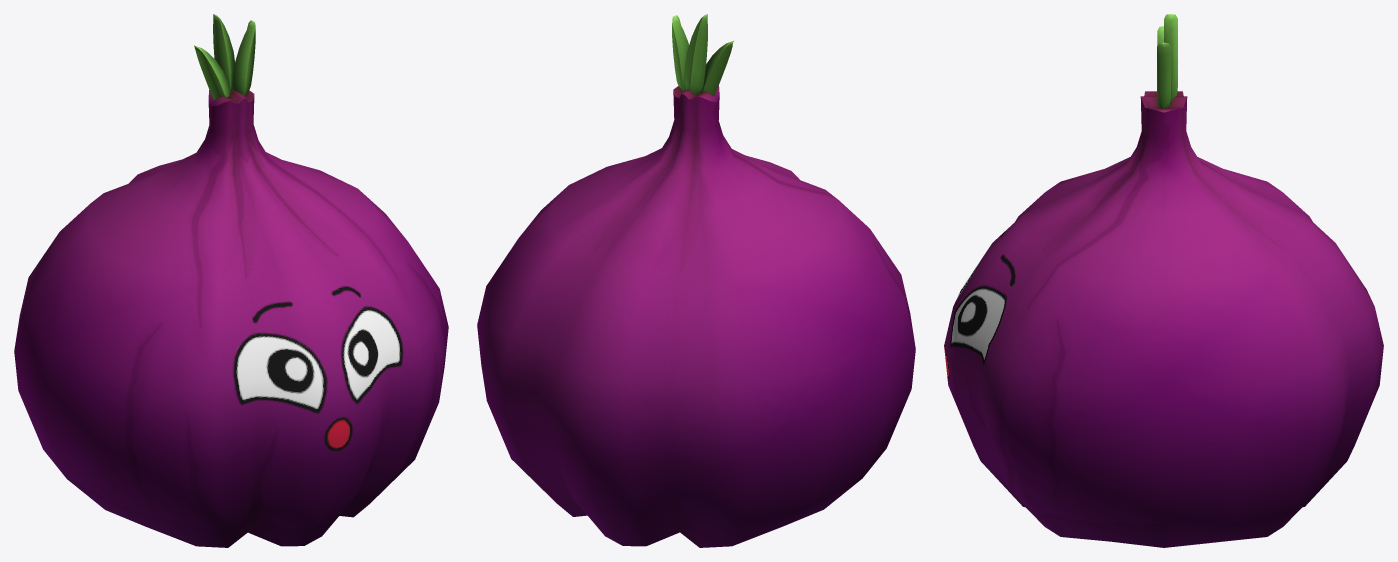
The model's file is Bawang_Merah_texture.fbx.
The picture shows the model from 3 angles, left to right: view 1: azimuth 30°, elevation 25°; view 2: azimuth 150°, elevation 25°; view 3: azimuth 270°, elevation 25°; orthographic projection.
Parts seen in each view (by area): view 1: Cylinder.002, Cube.001; view 2: Cylinder.002, Cube.001; view 3: Cylinder.002, Cube.001.
Part boxes in pixels (left/top/right/bottom): Cylinder.002: left=14, top=89, right=448, bottom=547; Cube.001: left=194, top=14, right=255, bottom=100; Cylinder.002: left=477, top=85, right=915, bottom=547; Cube.001: left=672, top=14, right=733, bottom=96; Cylinder.002: left=944, top=91, right=1383, bottom=547; Cube.001: left=1157, top=14, right=1177, bottom=109.
Bounding box in the file's own units: 274 × 330 × 274.
